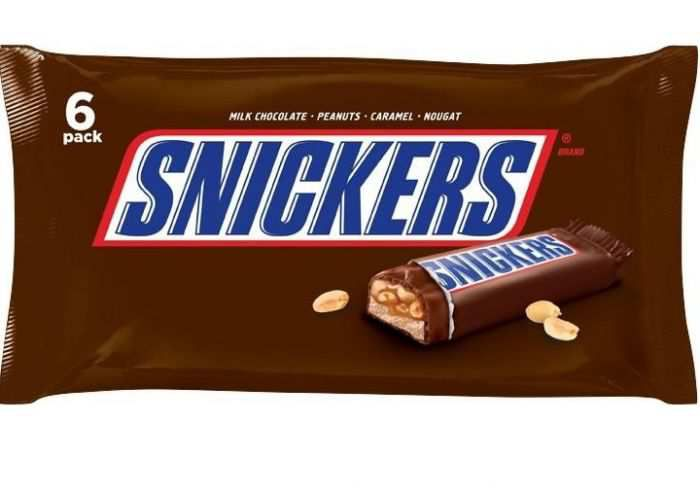snickers: (113, 135, 537, 237), (425, 234, 573, 288), (425, 252, 582, 288)
